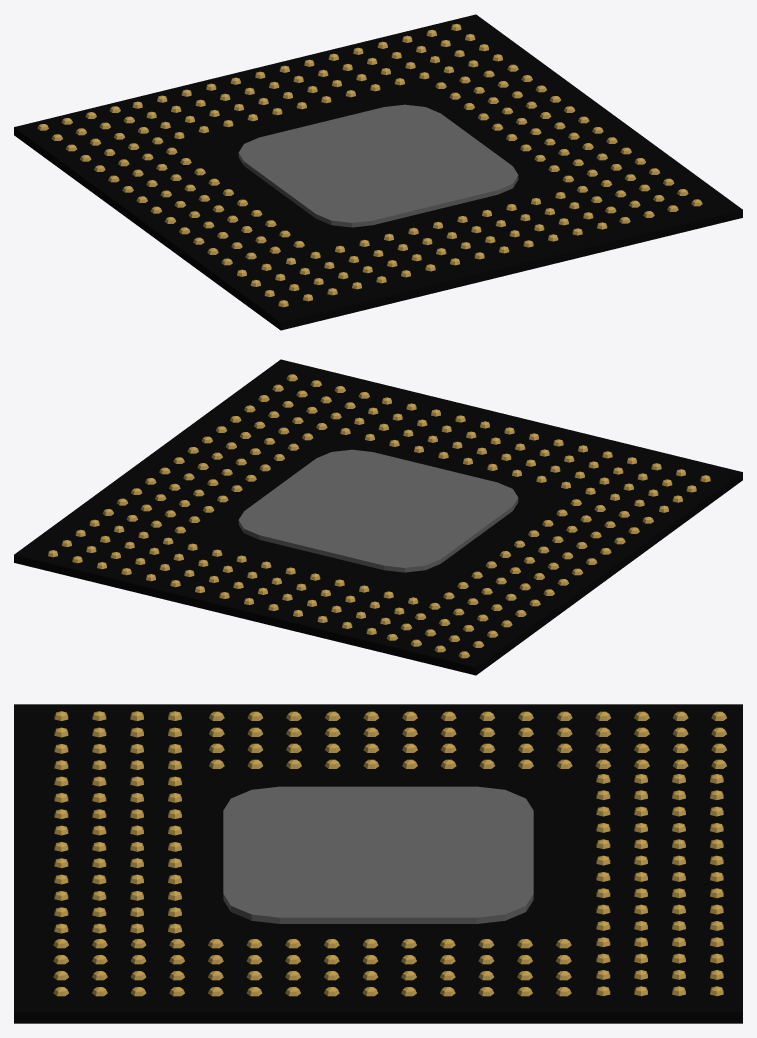
The model's file is CPU.fbx.
The picture shows the model from 3 angles, top to bottom: view 1: azimuth 30°, elevation 25°; view 2: azimuth 150°, elevation 25°; view 3: azimuth 270°, elevation 25°; orthographic projection. The views are drawn at different scales.
Parts seen in each view (by area): view 1: CPU; view 2: CPU; view 3: CPU.
Boxes of the visible parts, x1=… form: CPU: x1=14, y1=14, x2=742, y2=330; CPU: x1=14, y1=359, x2=742, y2=675; CPU: x1=14, y1=704, x2=742, y2=1023.
Bounding box in the file's own units: 105 × 2.78 × 105.
